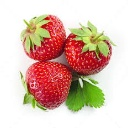strawberry: (66, 20, 116, 76), (19, 60, 73, 111), (20, 14, 68, 63)
